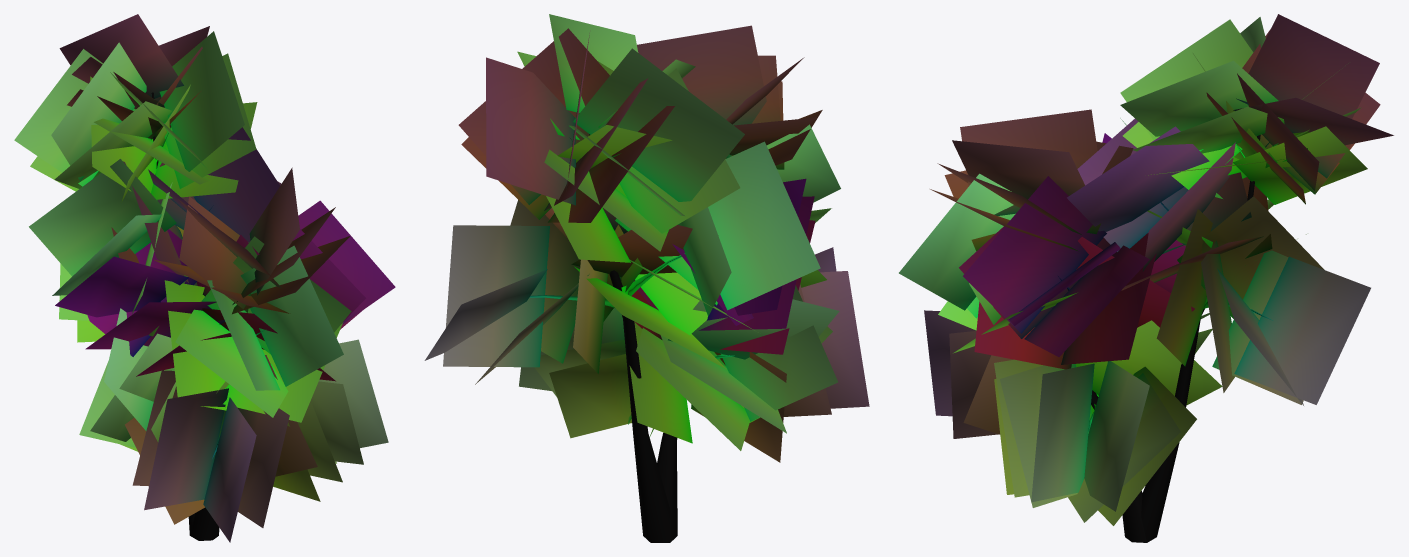
File: URP_P15_Tree_5_LOD_3.fbx
3 views of the same model, side by side, from view 1: azimuth 30°, elevation 25°; view 2: azimuth 150°, elevation 25°; view 3: azimuth 270°, elevation 25° (orthographic). The views are drawn at different scales.
Visible parts, largest first — view 1: Tree_5_LOD_3; view 2: Tree_5_LOD_3; view 3: Tree_5_LOD_3.
Part boxes in pixels (<box>): Tree_5_LOD_3: <box>14,14,395,542</box>; Tree_5_LOD_3: <box>424,14,869,542</box>; Tree_5_LOD_3: <box>899,14,1393,542</box>.
Size of the model in its own units: 500 by 818 by 706.
